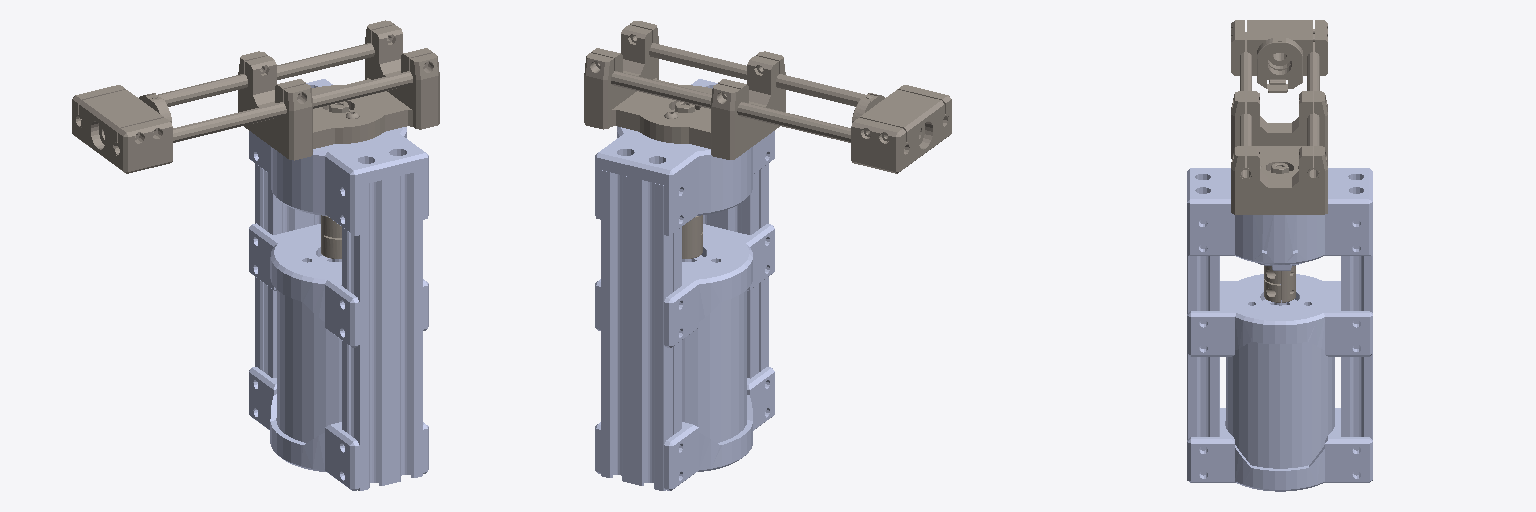
robot.urdf — inverted_pendulum:
<?xml version="1.0" encoding="utf-8"?>
<!-- This URDF was automatically created by SolidWorks to URDF Exporter! Originally created by [author] ([email redacted]) 
     Commit Version: 1.6.0-4-g7f85cfe  Build Version: 1.6.7995.38578
     For more information, please see http://wiki.ros.org/sw_urdf_exporter -->
<robot
  name="inverted_pendulum">
  <link
    name="base_link">
    <inertial>
      <origin
        xyz="4.35011143188255E-06 -4.26974202710952E-05 0.0926893522450359"
        rpy="0 0 0" />
      <mass
        value="0.951310569253784" />
      <inertia
        ixx="0.00149406454043322"
        ixy="4.1269780410918E-09"
        ixz="-7.65282756367952E-08"
        iyy="0.00140648625642533"
        iyz="8.80770910696327E-10"
        izz="0.000630646344660402" />
    </inertial>
    <visual>
      <origin
        xyz="0 0 0"
        rpy="0 0 0" />
      <geometry>
        <mesh
          filename="package://inverted_pendulum/meshes/base_link.STL" />
      </geometry>
      <material
        name="">
        <color
          rgba="0.792156862745098 0.819607843137255 0.933333333333333 1" />
      </material>
    </visual>
    <collision>
      <origin
        xyz="0 0 0"
        rpy="0 0 0" />
      <geometry>
        <mesh
          filename="package://inverted_pendulum/meshes/base_link.STL" />
      </geometry>
    </collision>
  </link>
  <link
    name="revolute_Link">
    <inertial>
      <origin
        xyz="-0.0286909334248885 -0.000165321852001084 0.00149997929858667"
        rpy="0 0 0" />
      <mass
        value="0.22015507085087" />
      <inertia
        ixx="5.59477770124058E-05"
        ixy="-2.47845250294301E-09"
        ixz="-6.15261336732562E-09"
        iyy="0.000114971529494517"
        iyz="4.85611321473666E-09"
        izz="0.000137466092368282" />
    </inertial>
    <visual>
      <origin
        xyz="0 0 0"
        rpy="0 0 0" />
      <geometry>
        <mesh
          filename="package://inverted_pendulum/meshes/revolute_Link.STL" />
      </geometry>
      <material
        name="">
        <color
          rgba="0.650980392156863 0.619607843137255 0.588235294117647 1" />
      </material>
    </visual>
    <collision>
      <origin
        xyz="0 0 0"
        rpy="0 0 0" />
      <geometry>
        <mesh
          filename="package://inverted_pendulum/meshes/revolute_Link.STL" />
      </geometry>
    </collision>
  </link>
  <joint
    name="revolute_joint"
    type="continuous">
    <origin
      xyz="0 0 0.2"
      rpy="0 0 0" />
    <parent
      link="base_link" />
    <child
      link="revolute_Link" />
    <axis
      xyz="0 0 1" />
    <limit
      lower="0"
      upper="0"
      effort="0"
      velocity="0" />
  </joint>
  <link
    name="first_pendulum_link">
    <inertial>
      <origin
        xyz="-1.00551614626808E-07 -0.0646208421547946 -0.00362087479361176"
        rpy="0 0 0" />
      <mass
        value="0.0997302210483471" />
      <inertia
        ixx="0.000174588068807011"
        ixy="-2.95045790865843E-10"
        ixz="2.21709158691669E-11"
        iyy="6.96835664909535E-06"
        iyz="5.24978381703526E-07"
        izz="0.000169216758156749" />
    </inertial>
    <visual>
      <origin
        xyz="0 0 0"
        rpy="0 0 0" />
      <geometry>
        <mesh
          filename="package://inverted_pendulum/meshes/first_pendulum_link.STL" />
      </geometry>
      <material
        name="">
        <color
          rgba="0.650980392156863 0.619607843137255 0.588235294117647 1" />
      </material>
    </visual>
    <collision>
      <origin
        xyz="0 0 0"
        rpy="0 0 0" />
      <geometry>
        <mesh
          filename="package://inverted_pendulum/meshes/first_pendulum_link.STL" />
      </geometry>
    </collision>
  </link>
  <joint
    name="first_pendulum_joint"
    type="continuous">
    <origin
      xyz="-0.157 -0.0002 0.0232"
      rpy="1.5708 0 -1.5708" />
    <parent
      link="revolute_Link" />
    <child
      link="first_pendulum_link" />
    <axis
      xyz="0 0 1" />
    <limit
      lower="0"
      upper="0"
      effort="0"
      velocity="0" />
  </joint>
  <link
    name="second_pendulum_link">
    <inertial>
      <origin
        xyz="-1.37241877775095E-07 -0.0553657542543718 0.000364883293048152"
        rpy="0 0 0" />
      <mass
        value="0.0733318769925464" />
      <inertia
        ixx="0.000168690593331268"
        ixy="2.94799944877995E-10"
        ixz="-2.24978351021251E-11"
        iyy="1.02496796632714E-06"
        iyz="5.48572430725862E-07"
        izz="0.000168736683605543" />
    </inertial>
    <visual>
      <origin
        xyz="0 0 0"
        rpy="0 0 0" />
      <geometry>
        <mesh
          filename="package://inverted_pendulum/meshes/second_pendulum_link.STL" />
      </geometry>
      <material
        name="">
        <color
          rgba="0.650980392156863 0.619607843137255 0.588235294117647 1" />
      </material>
    </visual>
    <collision>
      <origin
        xyz="0 0 0"
        rpy="0 0 0" />
      <geometry>
        <mesh
          filename="package://inverted_pendulum/meshes/second_pendulum_link.STL" />
      </geometry>
    </collision>
  </link>
  <joint
    name="second_pendulum_joint"
    type="continuous">
    <origin
      xyz="0 -0.1432 0.0135"
      rpy="0 0 0" />
    <parent
      link="first_pendulum_link" />
    <child
      link="second_pendulum_link" />
    <axis
      xyz="0 0 1" />
    <limit
      lower="0"
      upper="0"
      effort="0"
      velocity="0" />
  </joint>
</robot>

--- Render facts (derived) ---
The picture shows the robot from 3 angles, left to right: view 1: azimuth 30°, elevation 25°; view 2: azimuth 150°, elevation 25°; view 3: azimuth 270°, elevation 25°; orthographic projection.
Model inverted_pendulum with 4 links and 3 joints (3 continuous), rooted at base_link, posed all joints at 0.
Links seen in each view (by area): view 1: base_link, revolute_Link; view 2: base_link, revolute_Link; view 3: base_link, revolute_Link.
Boxes of the visible links, x1=… form: base_link: x1=249, y1=79, x2=428, y2=490; revolute_Link: x1=72, y1=20, x2=439, y2=258; base_link: x1=595, y1=79, x2=774, y2=490; revolute_Link: x1=584, y1=21, x2=951, y2=258; base_link: x1=1187, y1=168, x2=1372, y2=491; revolute_Link: x1=1231, y1=20, x2=1327, y2=302.
Bounding box of the posed robot: 0.2 × 0.1152 × 0.238 m (x, y, z).
2 mesh visuals loaded from 4 distinct referenced files (2 binary STL); not drawn: 2 (reference not matched to a file when rendering).